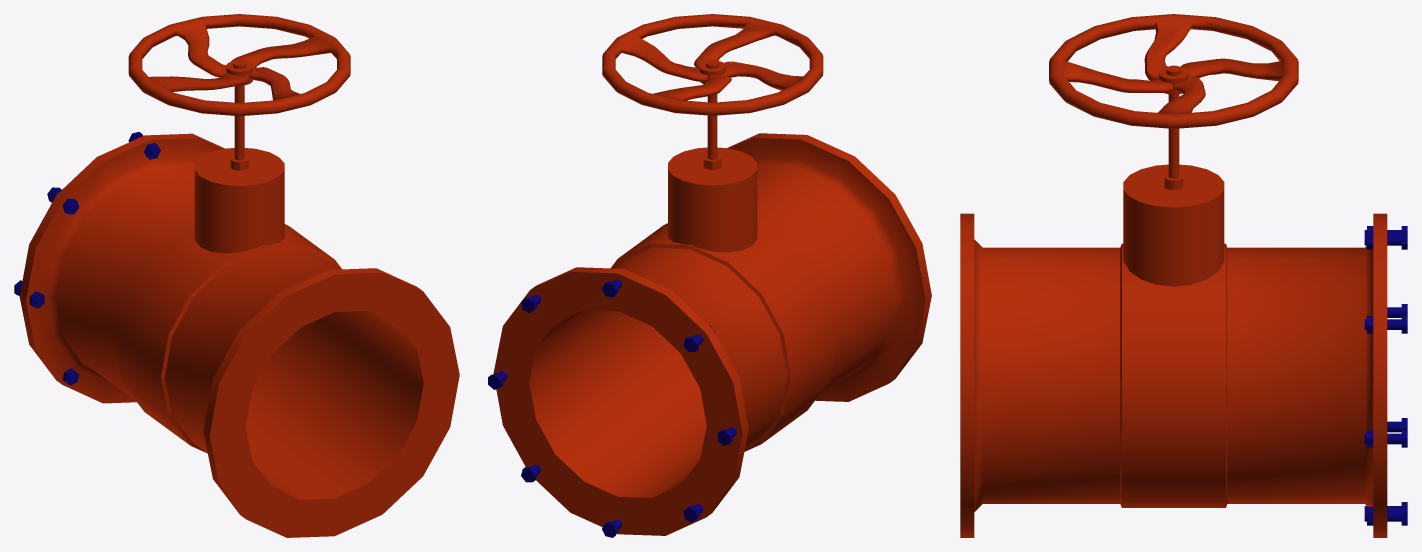
File: MSP_Valve01_BoltX8_01.FBX
3 renders of one model, left to right at view 1: azimuth 30°, elevation 25°; view 2: azimuth 150°, elevation 25°; view 3: azimuth 270°, elevation 25°, orthographic. The views are drawn at different scales.
Parts seen in each view (by area): view 1: PipeValve_up1_01_Low001, Valve_01_Low005, Bolt_005; view 2: PipeValve_up1_01_Low001, Valve_01_Low005, Bolt_005; view 3: PipeValve_up1_01_Low001, Valve_01_Low005, Bolt_005.
Boxes of the visible parts, x1,y1,x2,y2 form: PipeValve_up1_01_Low001: (19, 60, 459, 537); Valve_01_Low005: (128, 14, 350, 116); Bolt_005: (14, 132, 160, 385); PipeValve_up1_01_Low001: (493, 59, 931, 535); Valve_01_Low005: (602, 14, 823, 115); Bolt_005: (488, 279, 747, 537); PipeValve_up1_01_Low001: (960, 65, 1387, 537); Valve_01_Low005: (1049, 14, 1298, 128); Bolt_005: (1364, 226, 1407, 525).
Size of the model in its own units: 38 by 59.08 by 52.38.
